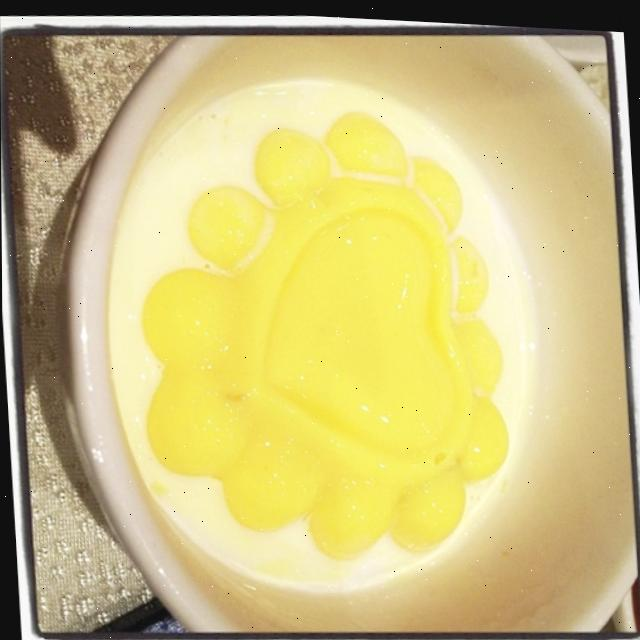蛋糕甜品: (26, 5, 640, 640)
